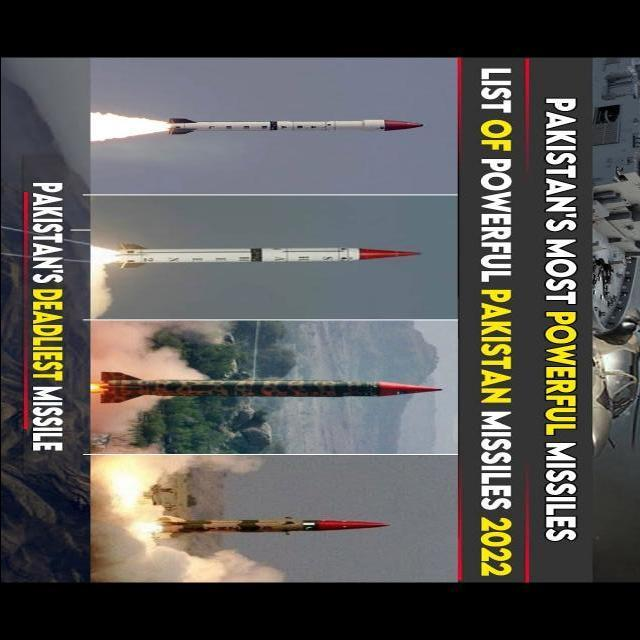missile: (92, 374, 442, 408), (117, 244, 423, 271), (165, 114, 432, 139), (155, 515, 391, 540)
